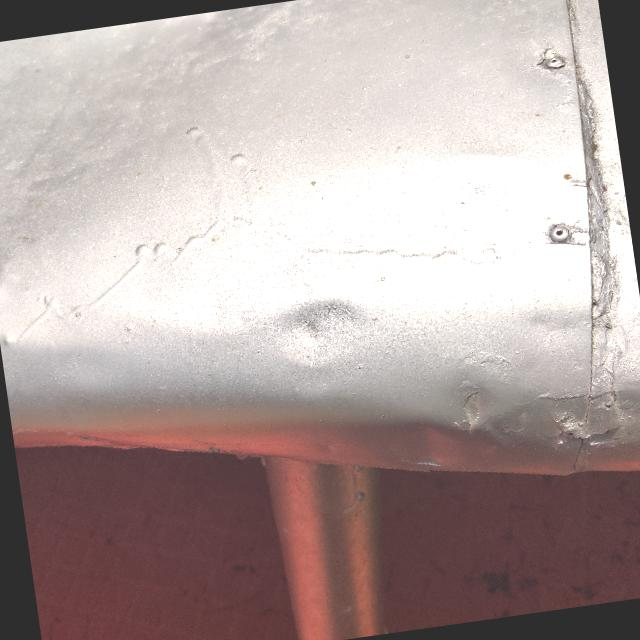dent: (381, 338, 548, 494), (250, 250, 399, 410)
